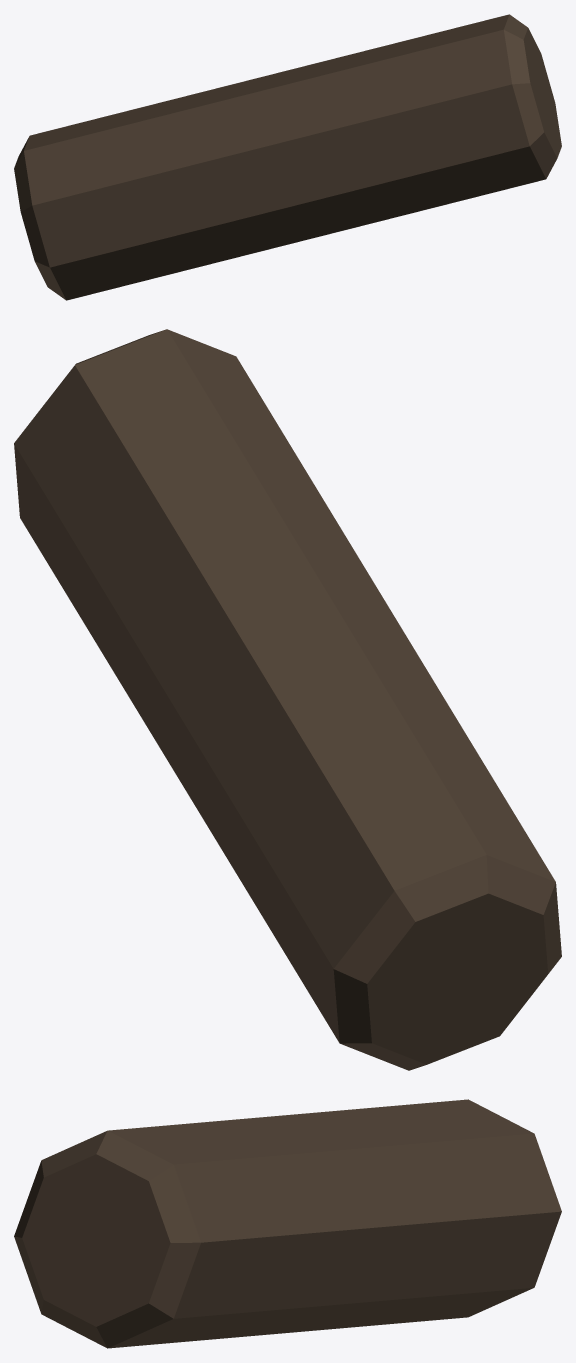
The model's file is Fireplace_Rustic_Log3.FBX.
The picture shows the model from 3 angles, top to bottom: view 1: azimuth 30°, elevation 25°; view 2: azimuth 150°, elevation 25°; view 3: azimuth 270°, elevation 25°; orthographic projection. The views are drawn at different scales.
Visible parts, largest first — view 1: Fireplace_Rustic_Log3; view 2: Fireplace_Rustic_Log3; view 3: Fireplace_Rustic_Log3.
Part boxes in pixels (x1,y1,x2,y2): Fireplace_Rustic_Log3: [14, 14, 561, 300]; Fireplace_Rustic_Log3: [14, 329, 561, 1070]; Fireplace_Rustic_Log3: [14, 1099, 561, 1348].
Bounding box in the file's own units: 27.99 × 18.04 × 24.26.
1 material, 1 textured.
